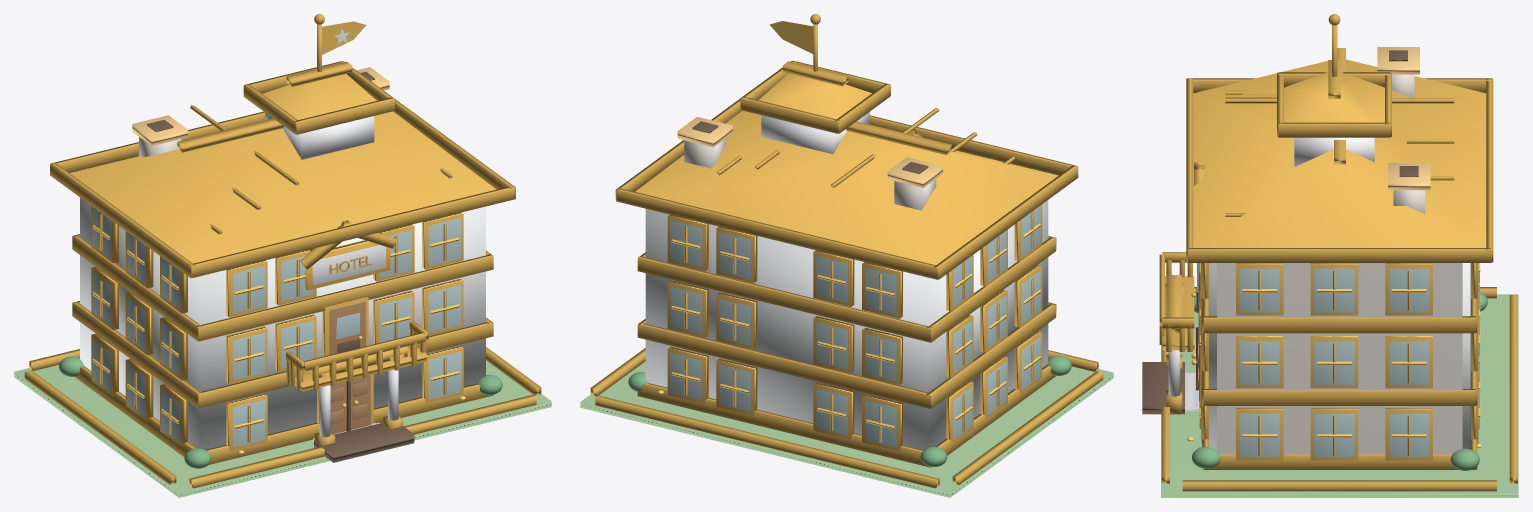
Rendered from hotel_detallado_orange.glb.
3 views of the same model, side by side, from view 1: azimuth 30°, elevation 25°; view 2: azimuth 150°, elevation 25°; view 3: azimuth 270°, elevation 25° (orthographic). The views are drawn at different scales.
Visible parts, largest first — view 1: Hotel_Techo_Principal, Hotel_Cuerpo_Principal, Hotel_Grama_Base, Hotel_Techo_Principal_Fascia_Frontal, Hotel_Zocalo_Frontal_Nivel_3, Hotel_Torre_Central_Techo, Hotel_Zocalo_Frontal_Nivel_1, Hotel_Zocalo_Frontal_Nivel_2, Hotel_Techo_Principal_Fascia_Izquierda, Hotel_Torre_Central_Pared, Hotel_Entrada_Escalon, Hotel_Zocalo_Izquierdo_Nivel_3 (+57 smaller); view 2: Hotel_Techo_Principal, Hotel_Cuerpo_Principal, Hotel_Grama_Base, Hotel_Zocalo_Trasero_Nivel_3, Hotel_Zocalo_Trasero_Nivel_2, Hotel_Techo_Principal_Fascia_Trasera, Hotel_Borde_Base_Trasero, Hotel_Zocalo_Trasero_Nivel_1, Hotel_Torre_Central_Techo, Hotel_Techo_Principal_Fascia_Izquierda, Hotel_Techo_Principal_Fascia_Frontal, Hotel_Zocalo_Izquierdo_Nivel_3 (+54 smaller); view 3: Hotel_Techo_Principal, Hotel_Pared_Lateral_Azulada, Hotel_Grama_Base, Hotel_Zocalo_Derecho_Nivel_3, Hotel_Techo_Principal_Fascia_Derecha, Hotel_Zocalo_Derecho_Nivel_2, Hotel_Torre_Central_Techo, Hotel_Borde_Base_Lateral_Derecho, Hotel_Zocalo_Derecho_Nivel_1, Hotel_Cuerpo_Principal, Hotel_Torre_Central_Techo_Fascia_Derecha, Hotel_Borde_Base_Trasero (+38 smaller).
Boxes of the visible parts, left/top/right/bottom form: Hotel_Techo_Principal: left=70, top=111, right=496, bottom=263; Hotel_Cuerpo_Principal: left=80, top=197, right=485, bottom=449; Hotel_Grama_Base: left=14, top=360, right=551, bottom=497; Hotel_Techo_Principal_Fascia_Frontal: left=189, top=187, right=515, bottom=277; Hotel_Zocalo_Frontal_Nivel_3: left=196, top=254, right=493, bottom=341; Hotel_Torre_Central_Techo: left=262, top=74, right=376, bottom=119; Hotel_Zocalo_Frontal_Nivel_1: left=206, top=383, right=493, bottom=464; Hotel_Zocalo_Frontal_Nivel_2: left=197, top=321, right=493, bottom=408; Hotel_Techo_Principal_Fascia_Izquierda: left=50, top=163, right=195, bottom=277; Hotel_Torre_Central_Pared: left=265, top=112, right=374, bottom=159; Hotel_Entrada_Escalon: left=314, top=423, right=414, bottom=462; Hotel_Zocalo_Izquierdo_Nivel_3: left=72, top=235, right=202, bottom=340; Hotel_Techo_Principal: left=635, top=110, right=1058, bottom=265; Hotel_Cuerpo_Principal: left=645, top=200, right=1048, bottom=449; Hotel_Grama_Base: left=580, top=361, right=1113, bottom=497; Hotel_Zocalo_Trasero_Nivel_3: left=637, top=256, right=932, bottom=342; Hotel_Zocalo_Trasero_Nivel_2: left=637, top=323, right=930, bottom=408; Hotel_Techo_Principal_Fascia_Trasera: left=616, top=188, right=937, bottom=279; Hotel_Borde_Base_Trasero: left=595, top=395, right=939, bottom=488; Hotel_Zocalo_Trasero_Nivel_1: left=637, top=383, right=930, bottom=467; Hotel_Torre_Central_Techo: left=758, top=73, right=871, bottom=119; Hotel_Techo_Principal_Fascia_Izquierda: left=934, top=165, right=1078, bottom=279; Hotel_Techo_Principal_Fascia_Frontal: left=870, top=115, right=1077, bottom=175; Hotel_Zocalo_Izquierdo_Nivel_3: left=927, top=237, right=1055, bottom=342; Hotel_Techo_Principal: left=1193, top=59, right=1486, bottom=247; Hotel_Pared_Lateral_Azulada: left=1217, top=263, right=1462, bottom=454; Hotel_Grama_Base: left=1161, top=294, right=1518, bottom=497; Hotel_Zocalo_Derecho_Nivel_3: left=1203, top=316, right=1475, bottom=333; Hotel_Techo_Principal_Fascia_Derecha: left=1187, top=248, right=1491, bottom=262; Hotel_Zocalo_Derecho_Nivel_2: left=1203, top=389, right=1475, bottom=405; Hotel_Torre_Central_Techo: left=1284, top=72, right=1384, bottom=122; Hotel_Borde_Base_Lateral_Derecho: left=1182, top=480, right=1496, bottom=491; Hotel_Zocalo_Derecho_Nivel_1: left=1203, top=454, right=1475, bottom=469; Hotel_Cuerpo_Principal: left=1209, top=263, right=1470, bottom=449; Hotel_Torre_Central_Techo_Fascia_Derecha: left=1278, top=122, right=1390, bottom=137; Hotel_Borde_Base_Trasero: left=1509, top=294, right=1517, bottom=483.
Size of the model in its own units: 1.75 by 1.67 by 1.41.
